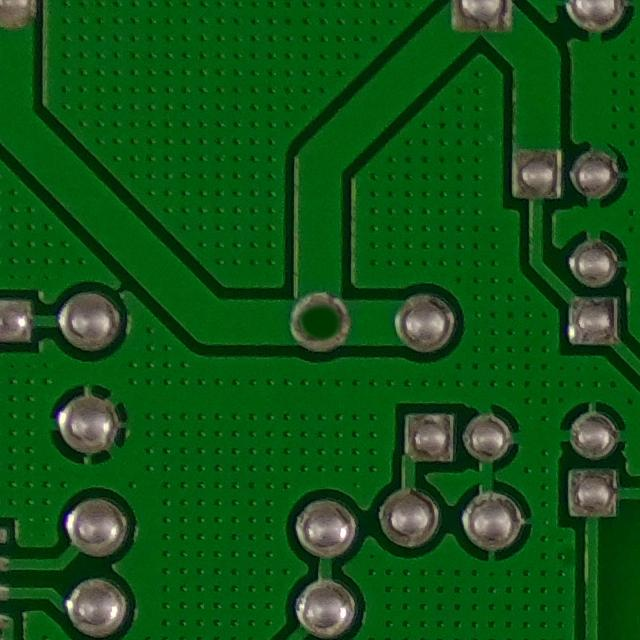missing_hole: (281, 281, 358, 358)
